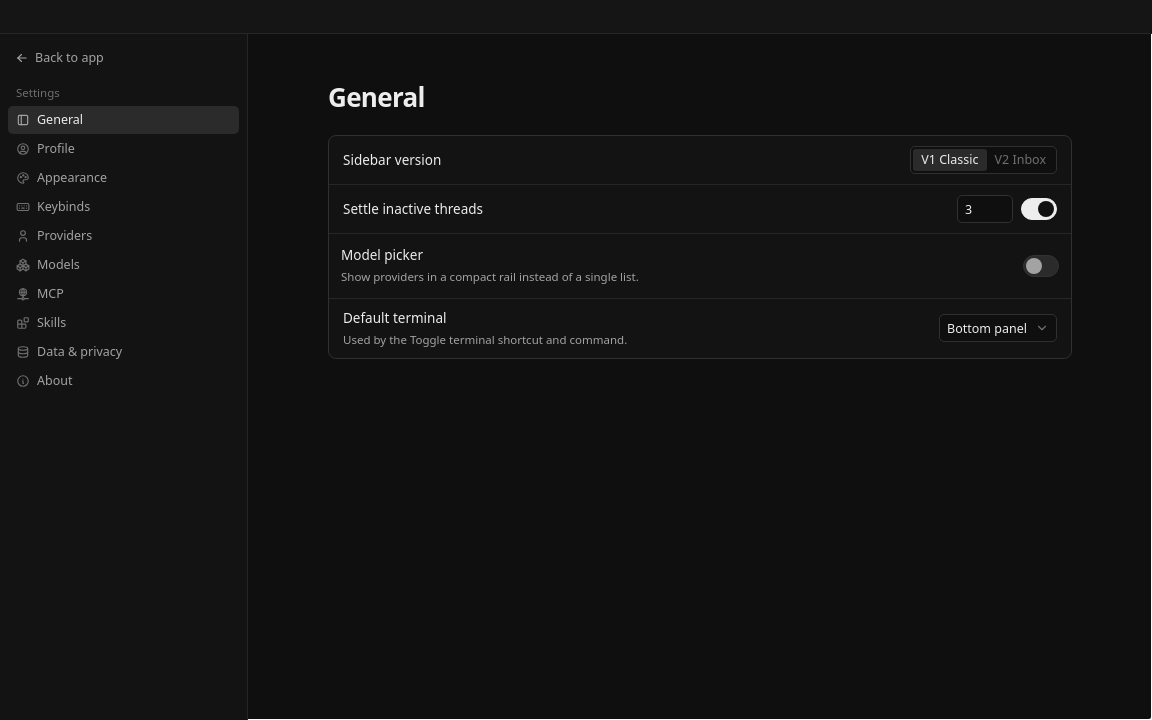
settings viewport layout › lets the terminal shortcut target the right sidebar
Click the dropdown named "Default terminal location": (998, 328) [939,314,1057,342]
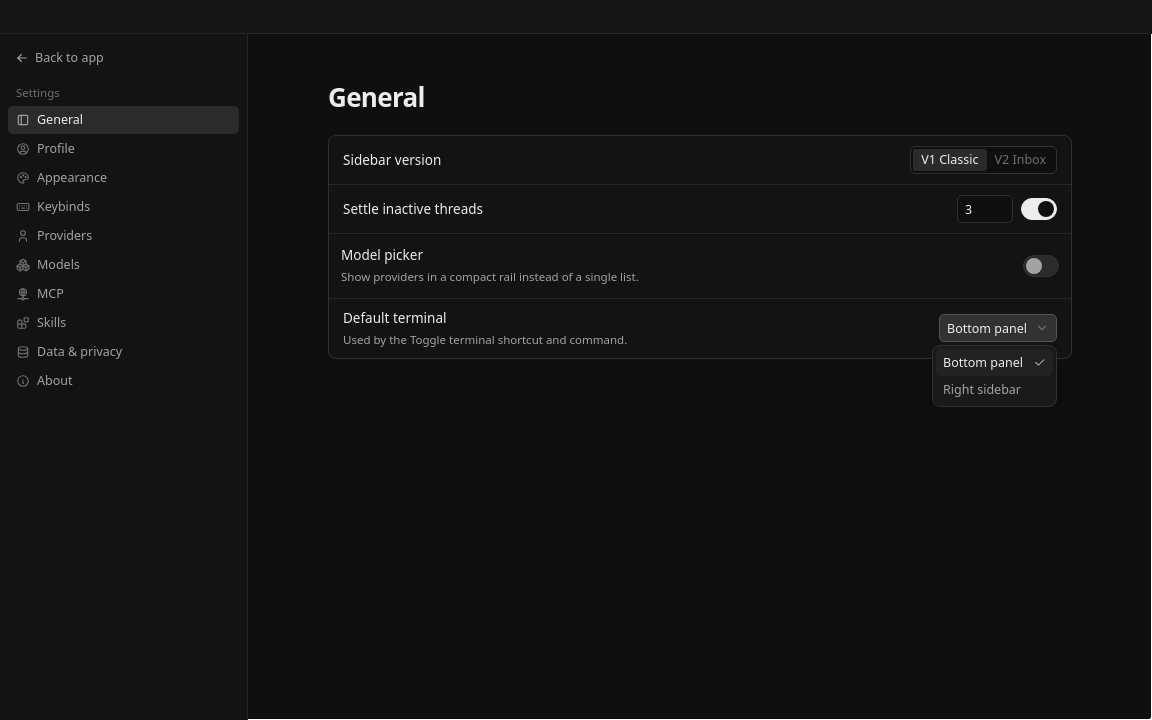
Click the option "Right sidebar": (982, 390) [943,381,1021,398]
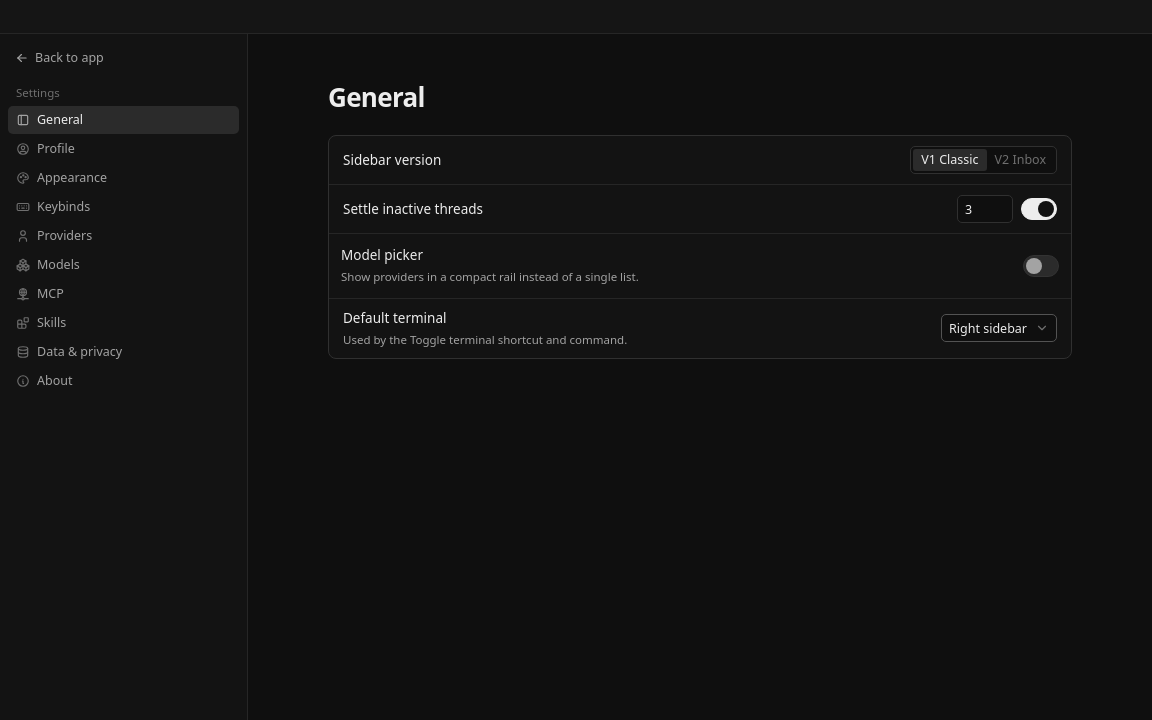
Expected: the dropdown named "Default terminal location" reads "Right sidebar", [941,314,1057,342]
